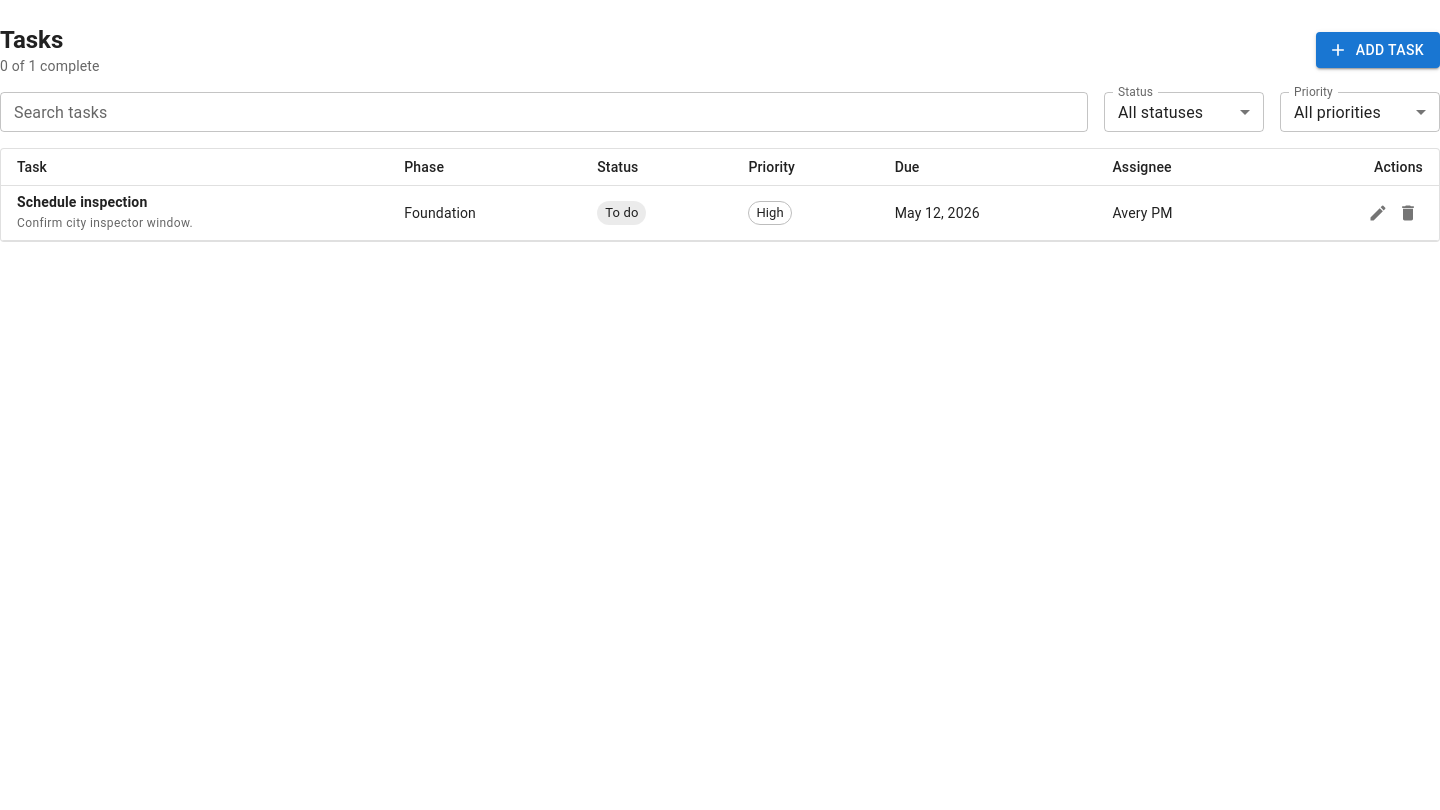
Scenario: ProjectTaskManager › deletes a task after confirmation
Click the button named "delete schedule inspection" at (1408, 213), box [1393, 198, 1423, 228]
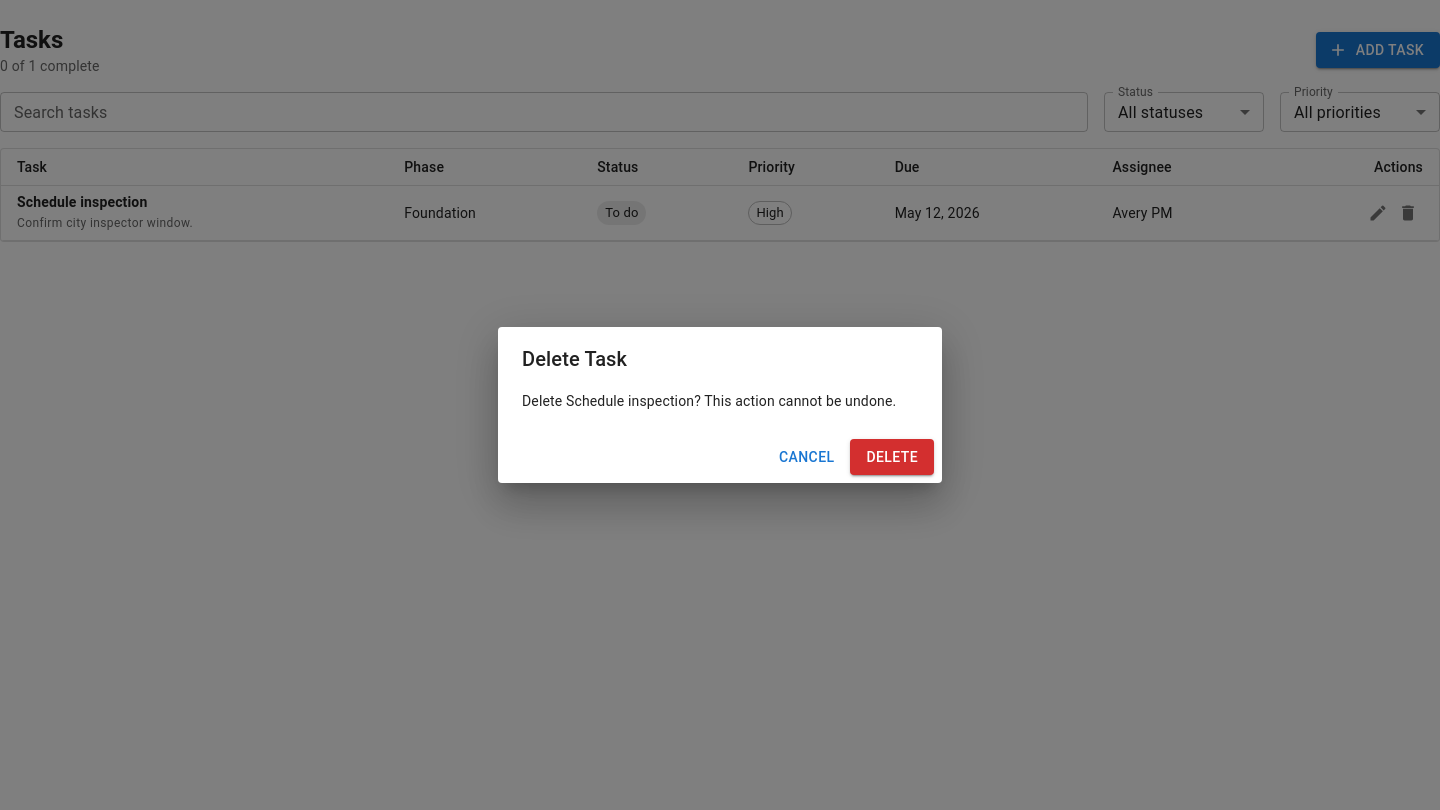
Click the button "Delete" at (892, 457), box [850, 439, 934, 475]
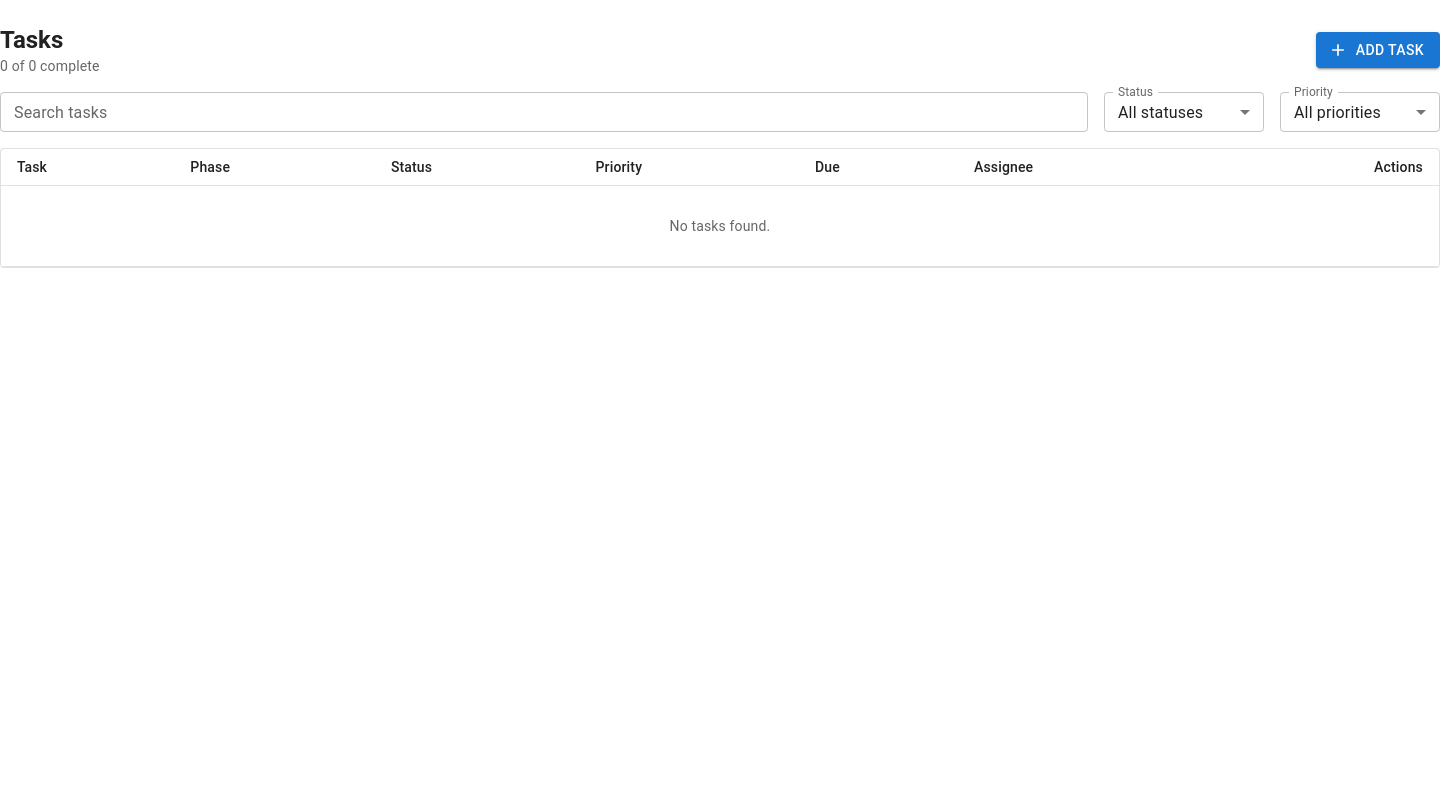
expect the text "Schedule inspection" is gone: met
